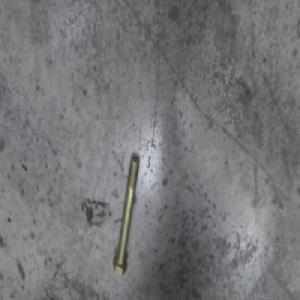Bolt: (111, 151, 138, 274)
